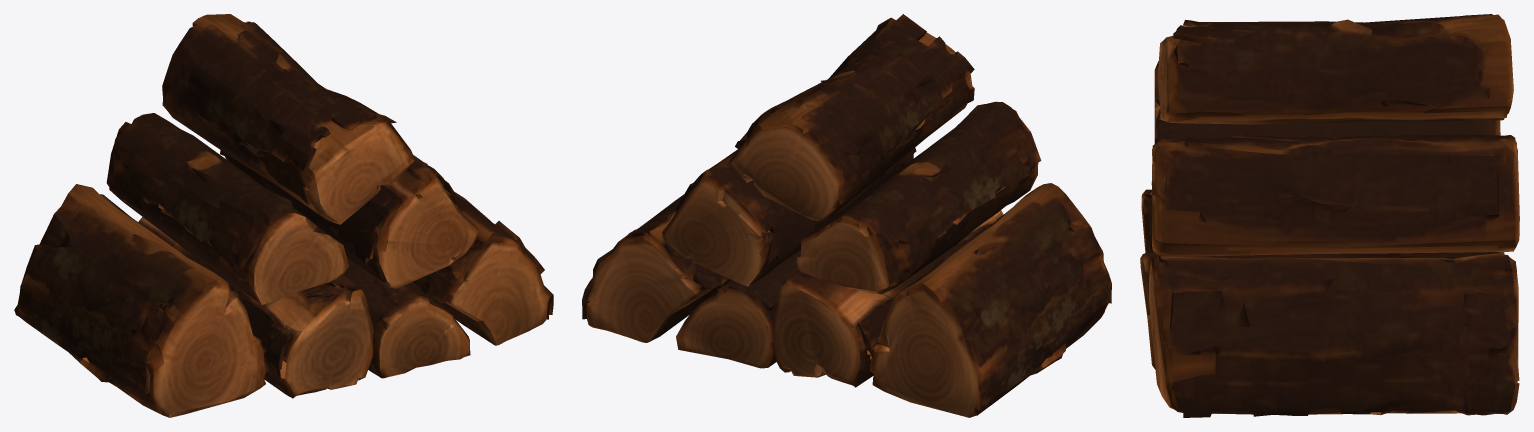
Rendered from stick-pile.glb.
3 renders of one model, left to right at view 1: azimuth 30°, elevation 25°; view 2: azimuth 150°, elevation 25°; view 3: azimuth 270°, elevation 25°, orthographic. The views are drawn at different scales.
Parts seen in each view (by area): view 1: Mesh0; view 2: Mesh0; view 3: Mesh0.
Boxes of the visible parts, x1,y1,x2,y2 form: Mesh0: (14,14,553,417); Mesh0: (582,14,1111,417); Mesh0: (1140,14,1519,417).
Size of the model in its own units: 1.89 by 1.17 by 1.36.
Materials: 1 (1 with a texture image).
